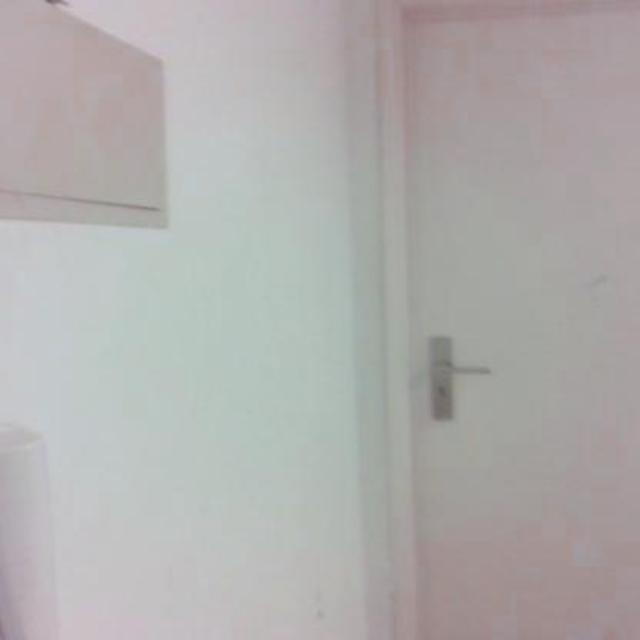door: (385, 0, 639, 638)
